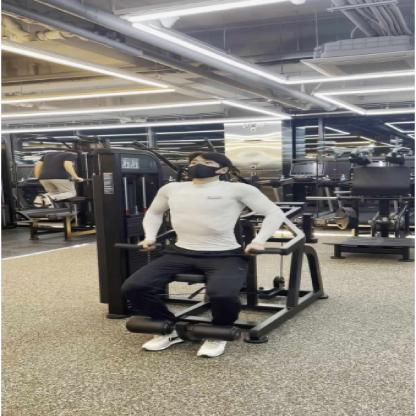seated dip machine: (63, 138, 337, 366)
